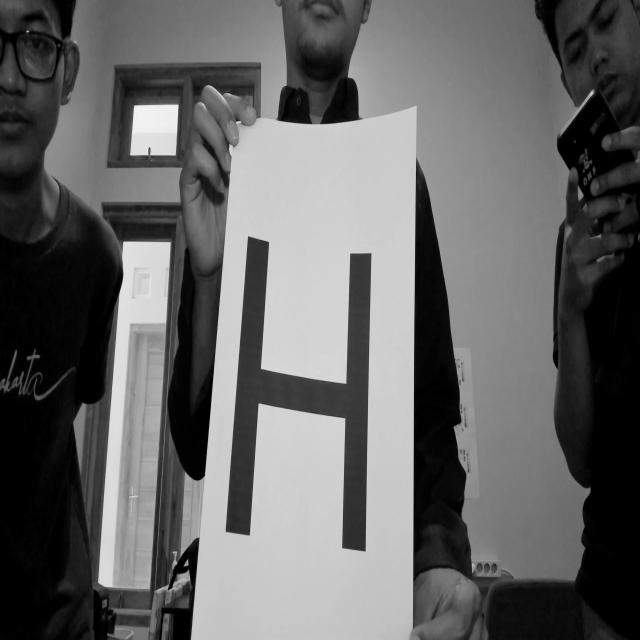h: (222, 218, 398, 570)
